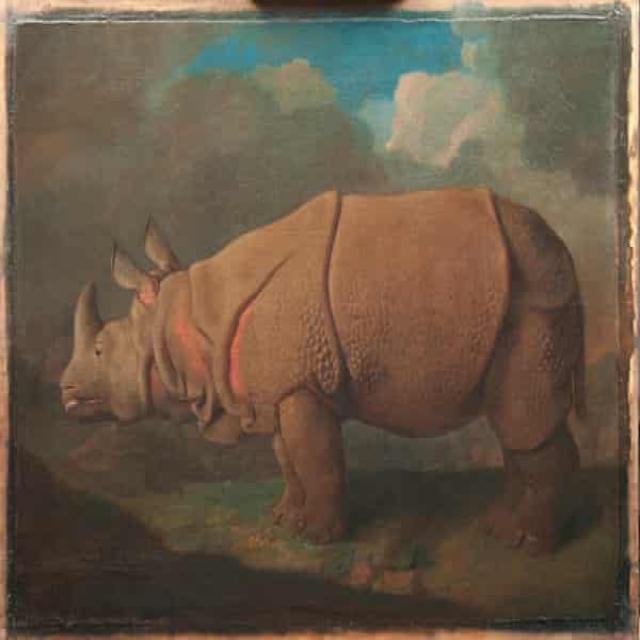Rinoceros: (52, 175, 587, 542)
